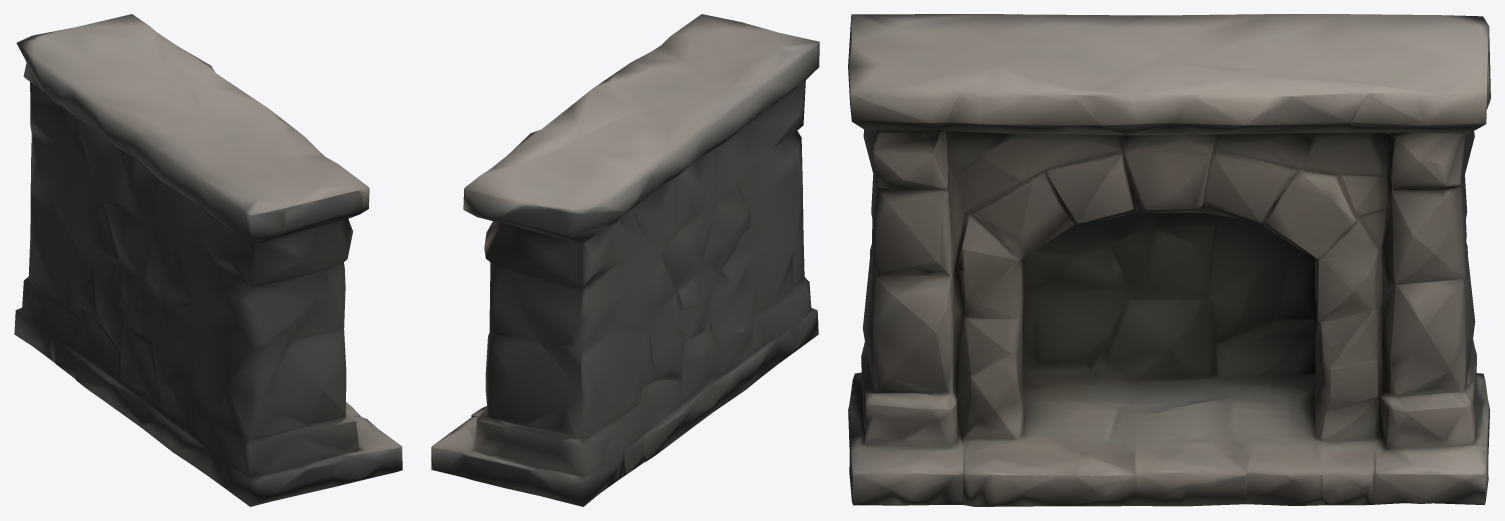
File: stone_fireplace.glb
The picture shows the model from 3 angles, left to right: view 1: azimuth 30°, elevation 25°; view 2: azimuth 150°, elevation 25°; view 3: azimuth 270°, elevation 25°; orthographic projection. The views are drawn at different scales.
Parts seen in each view (by area): view 1: tripo_node_fe8d4cef-dd06-4a1b-a9cd-b307b4e6e259; view 2: tripo_node_fe8d4cef-dd06-4a1b-a9cd-b307b4e6e259; view 3: tripo_node_fe8d4cef-dd06-4a1b-a9cd-b307b4e6e259.
Part boxes in pixels (x1=…): tripo_node_fe8d4cef-dd06-4a1b-a9cd-b307b4e6e259: x1=14, y1=14, x2=402, y2=506; tripo_node_fe8d4cef-dd06-4a1b-a9cd-b307b4e6e259: x1=431, y1=14, x2=819, y2=506; tripo_node_fe8d4cef-dd06-4a1b-a9cd-b307b4e6e259: x1=848, y1=14, x2=1490, y2=506.
Bounding box in the file's own units: 0.3915 × 0.6749 × 1.
1 material, 1 textured.
